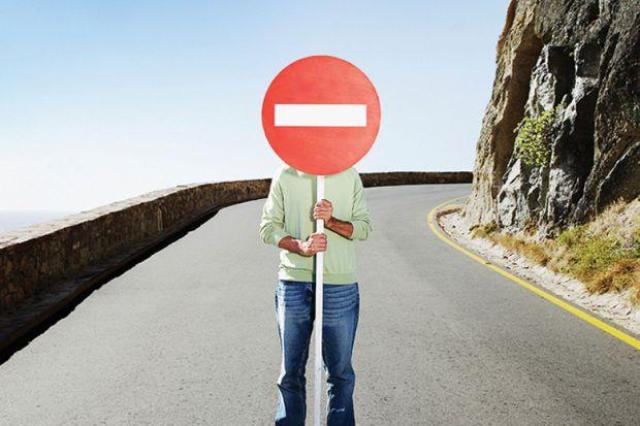B2: (260, 54, 382, 177)
